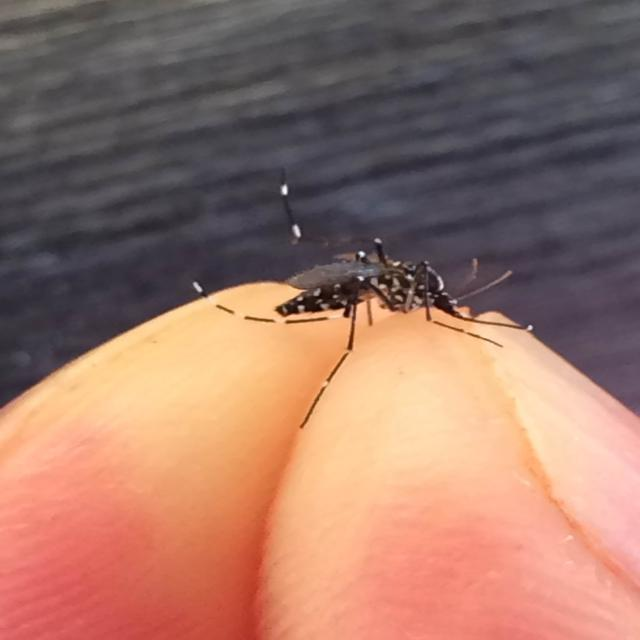albopictus: (180, 220, 542, 430)
